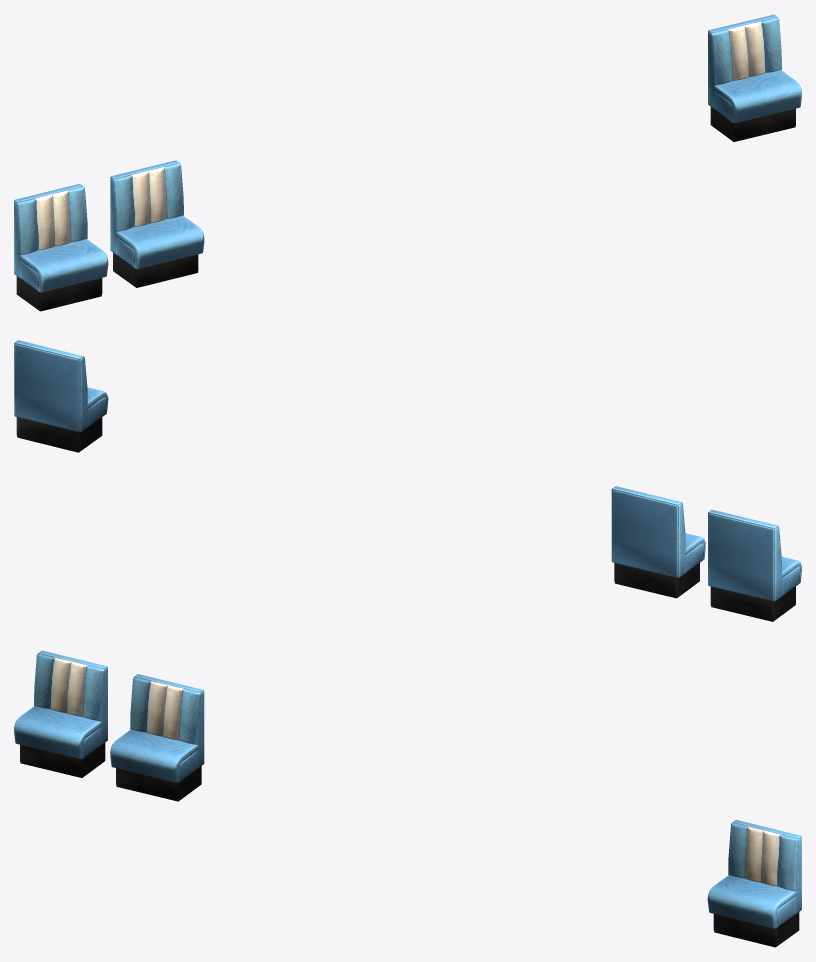
Rendered from obj_bench.gltf.
3 views of the same model, one above another, from view 1: azimuth 30°, elevation 25°; view 2: azimuth 150°, elevation 25°; view 3: azimuth 330°, elevation 25° (orthographic).
Parts seen in each view (by area): view 1: obj_bench; view 2: obj_bench; view 3: obj_bench.
Part boxes in pixels (box(x1,y1,x2,y2)): obj_bench: box(14, 14, 801, 311); obj_bench: box(14, 340, 801, 621); obj_bench: box(14, 650, 801, 947).
Size of what is drawn, in the model's own units: 8.53 by 1.02 by 0.5511.
1 material, 1 textured.
